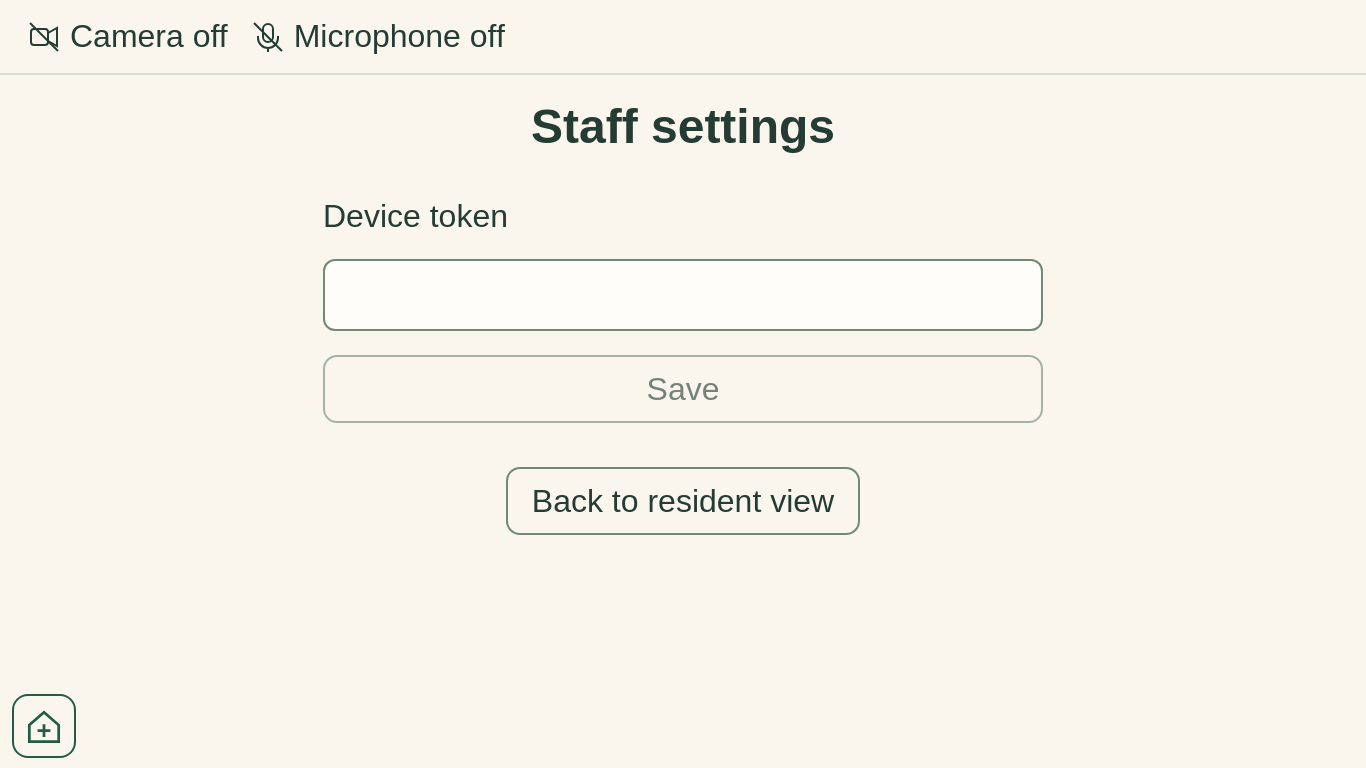
Test: a mistyped first token is never persisted and setup remains recoverable
In the password field labelled "Device token": (683, 295) [323,259,1043,331], type "typo"
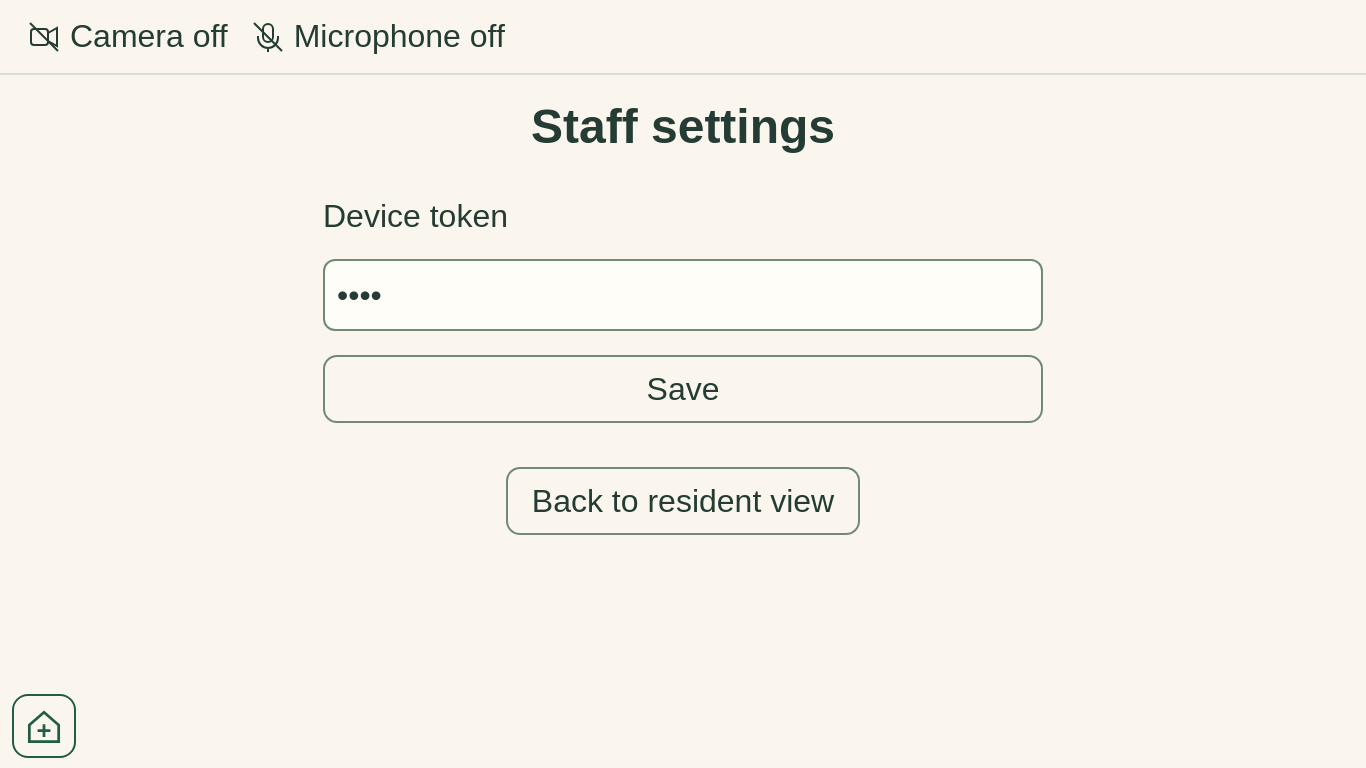
Click the button "Save": click(683, 389) [323,355,1043,423]
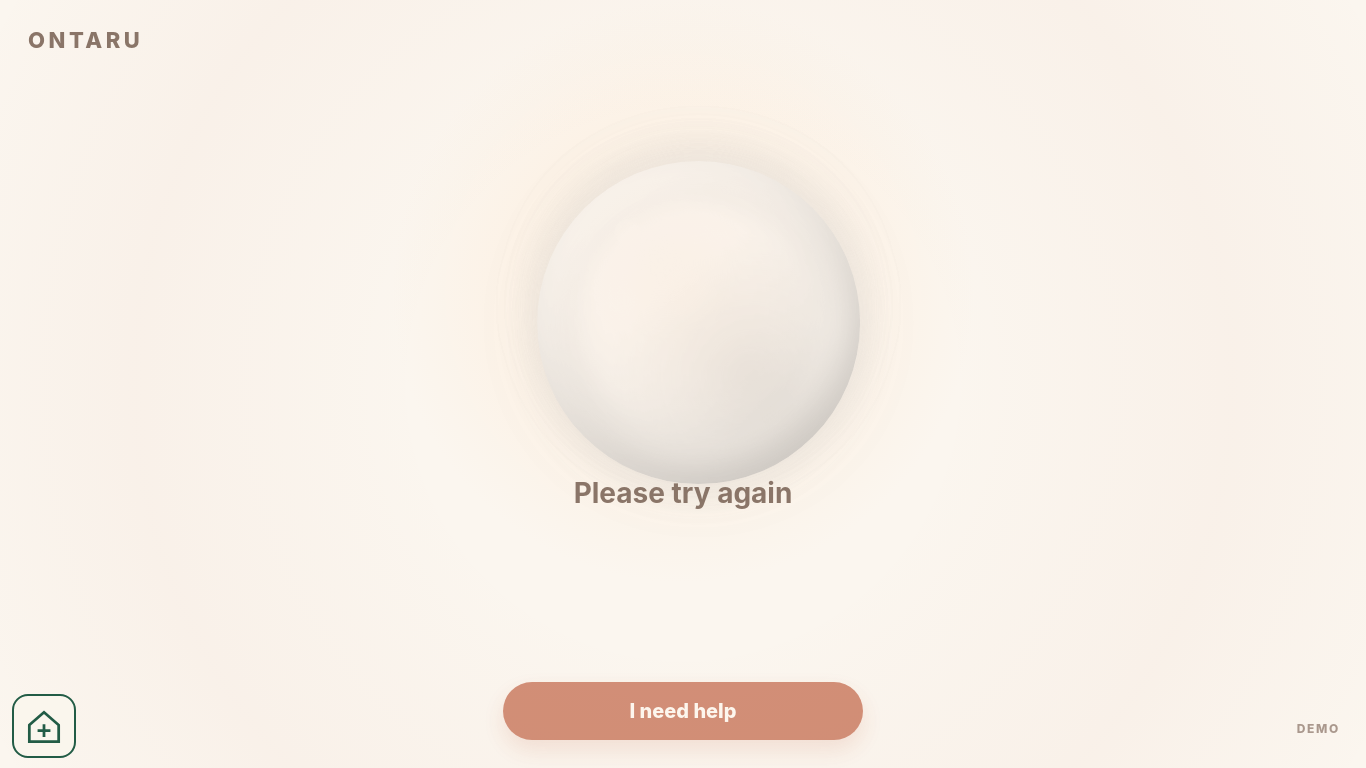
Result: the text "Please try again" is shown at [574,476,792,510]
Press Enter in the button named "Home; hold 3 seconds for staff settings", box [12,694,76,758]
Wait 3000 ms
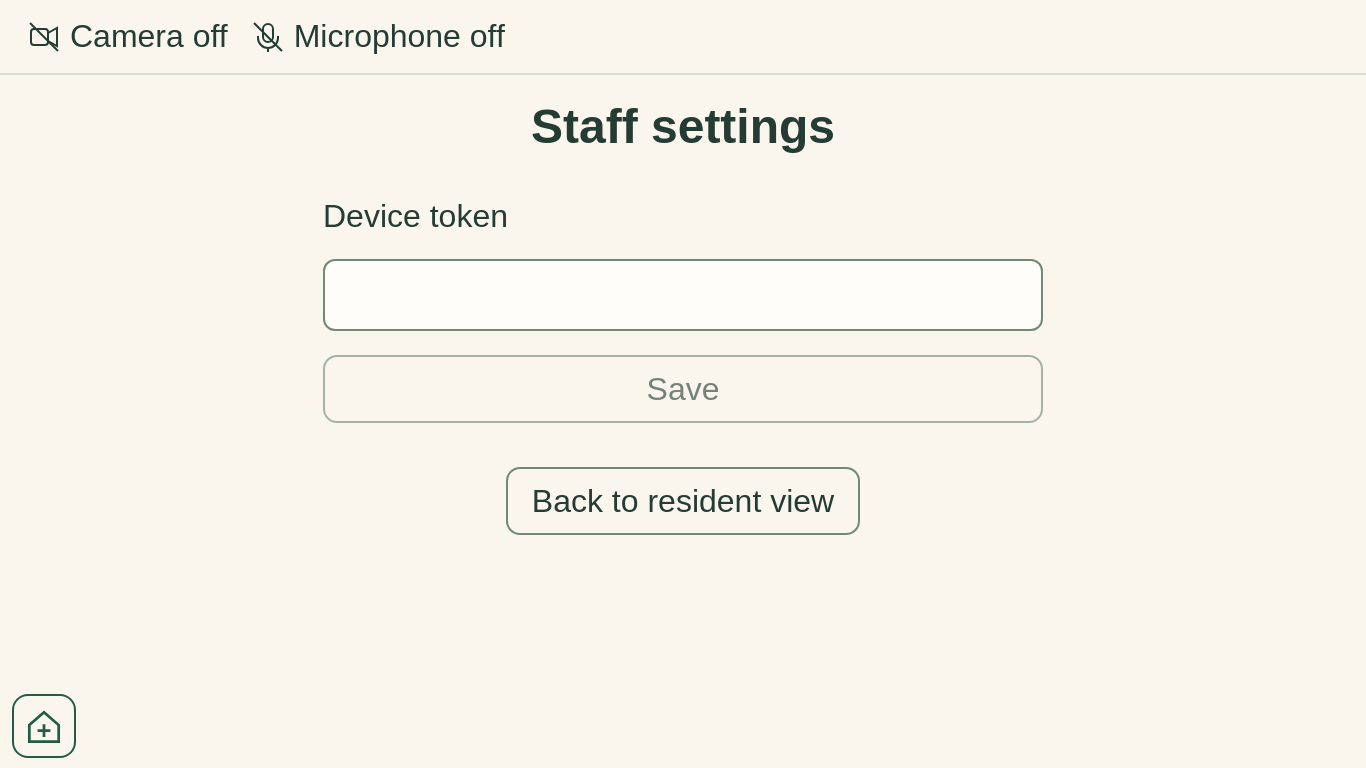
Result: the password field labelled "Device token" is shown at [323,259,1043,331]
